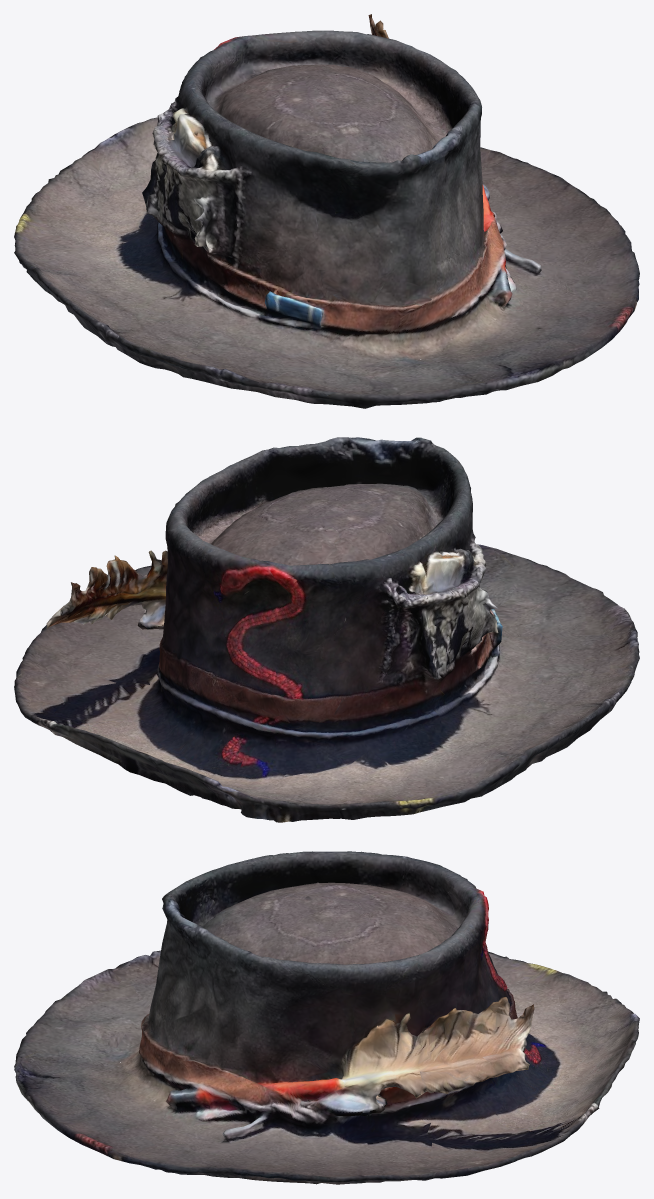
The model's file is YoggxRemeshed-v1024.glb.
The picture shows the model from 3 angles, top to bottom: view 1: azimuth 30°, elevation 25°; view 2: azimuth 150°, elevation 25°; view 3: azimuth 270°, elevation 25°; orthographic projection. The views are drawn at different scales.
Bounding box in the file's own units: 0.7986 × 0.2692 × 0.8867.
Materials: 2 (1 with a texture image).
